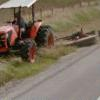Tractor: (2, 1, 57, 64)
